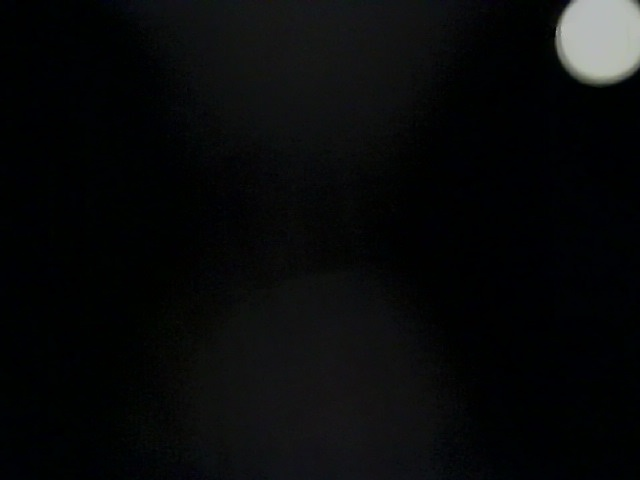CYLJ: (32, 48, 236, 408)
